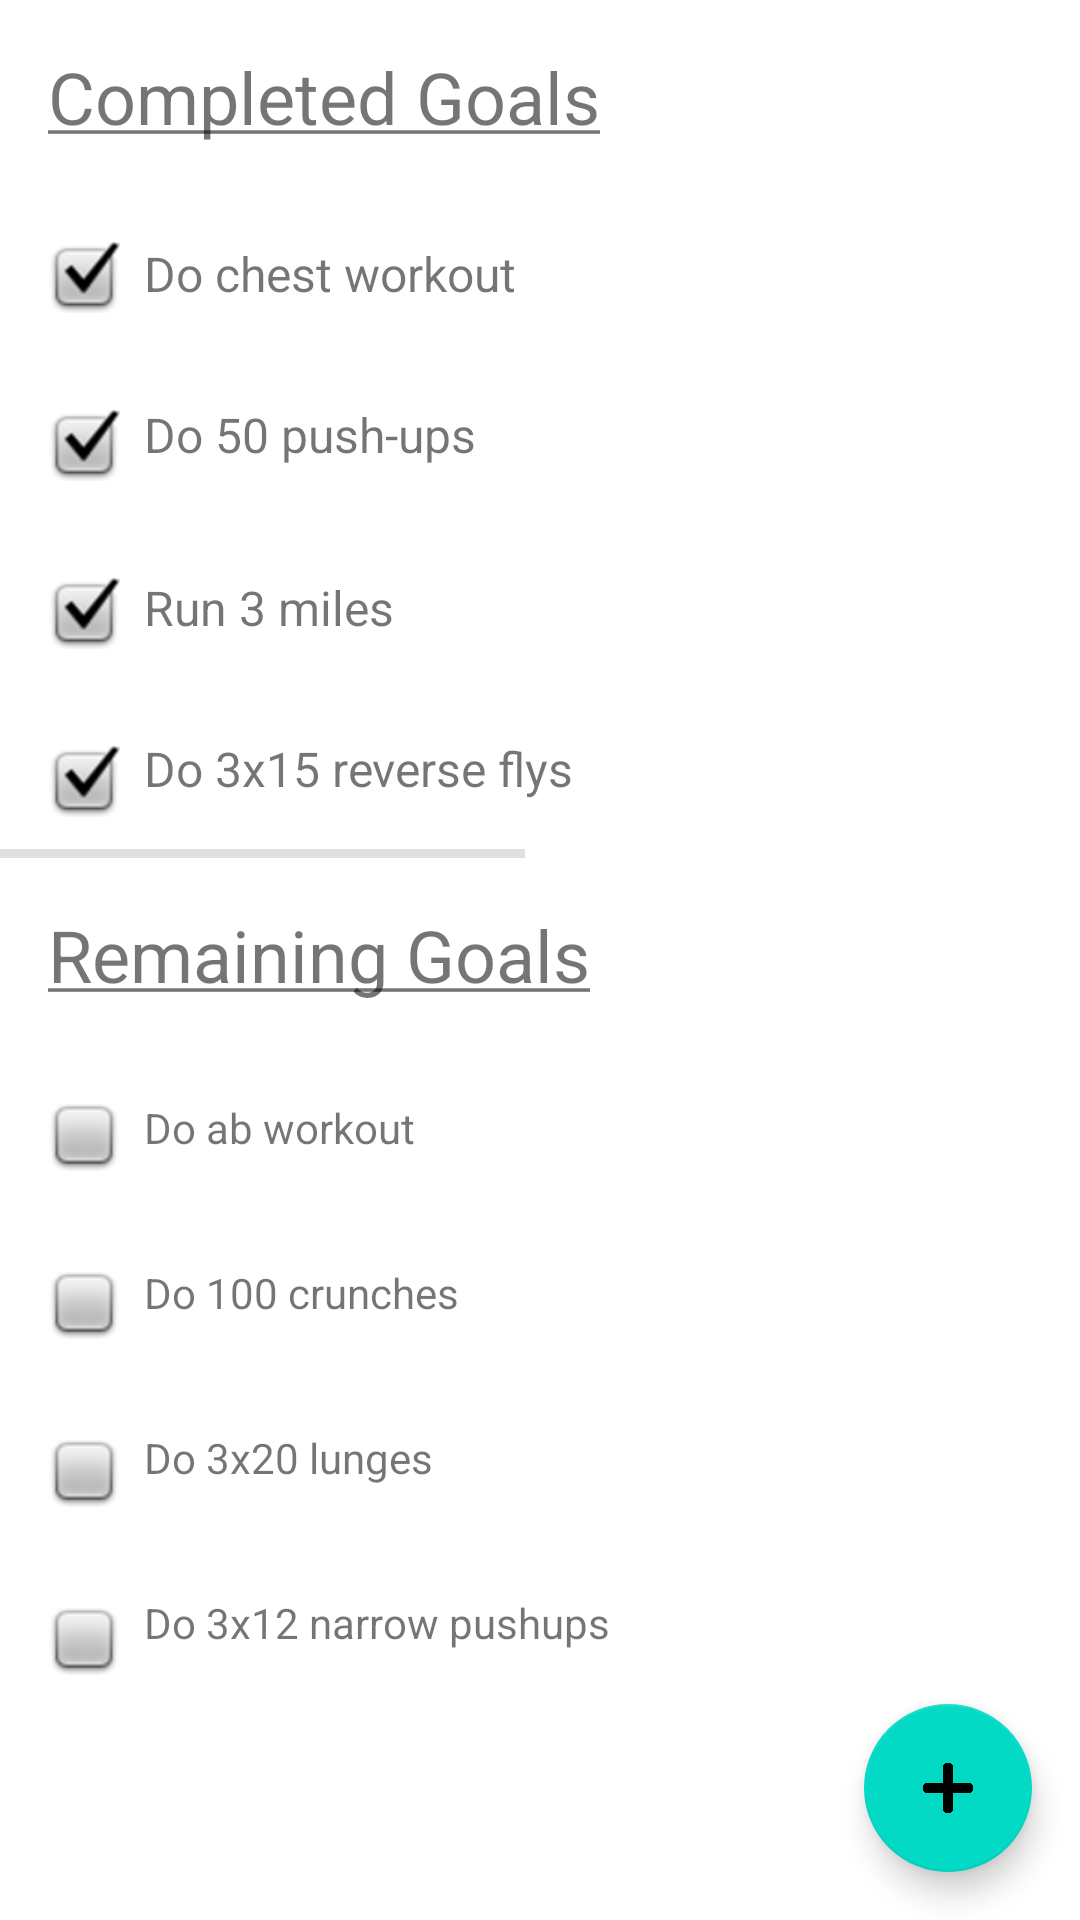

Icons on this 1080px×1920px Android screen, each with the point to tap as (x=x, y=y):
Add Workout: (x=948, y=1788)
